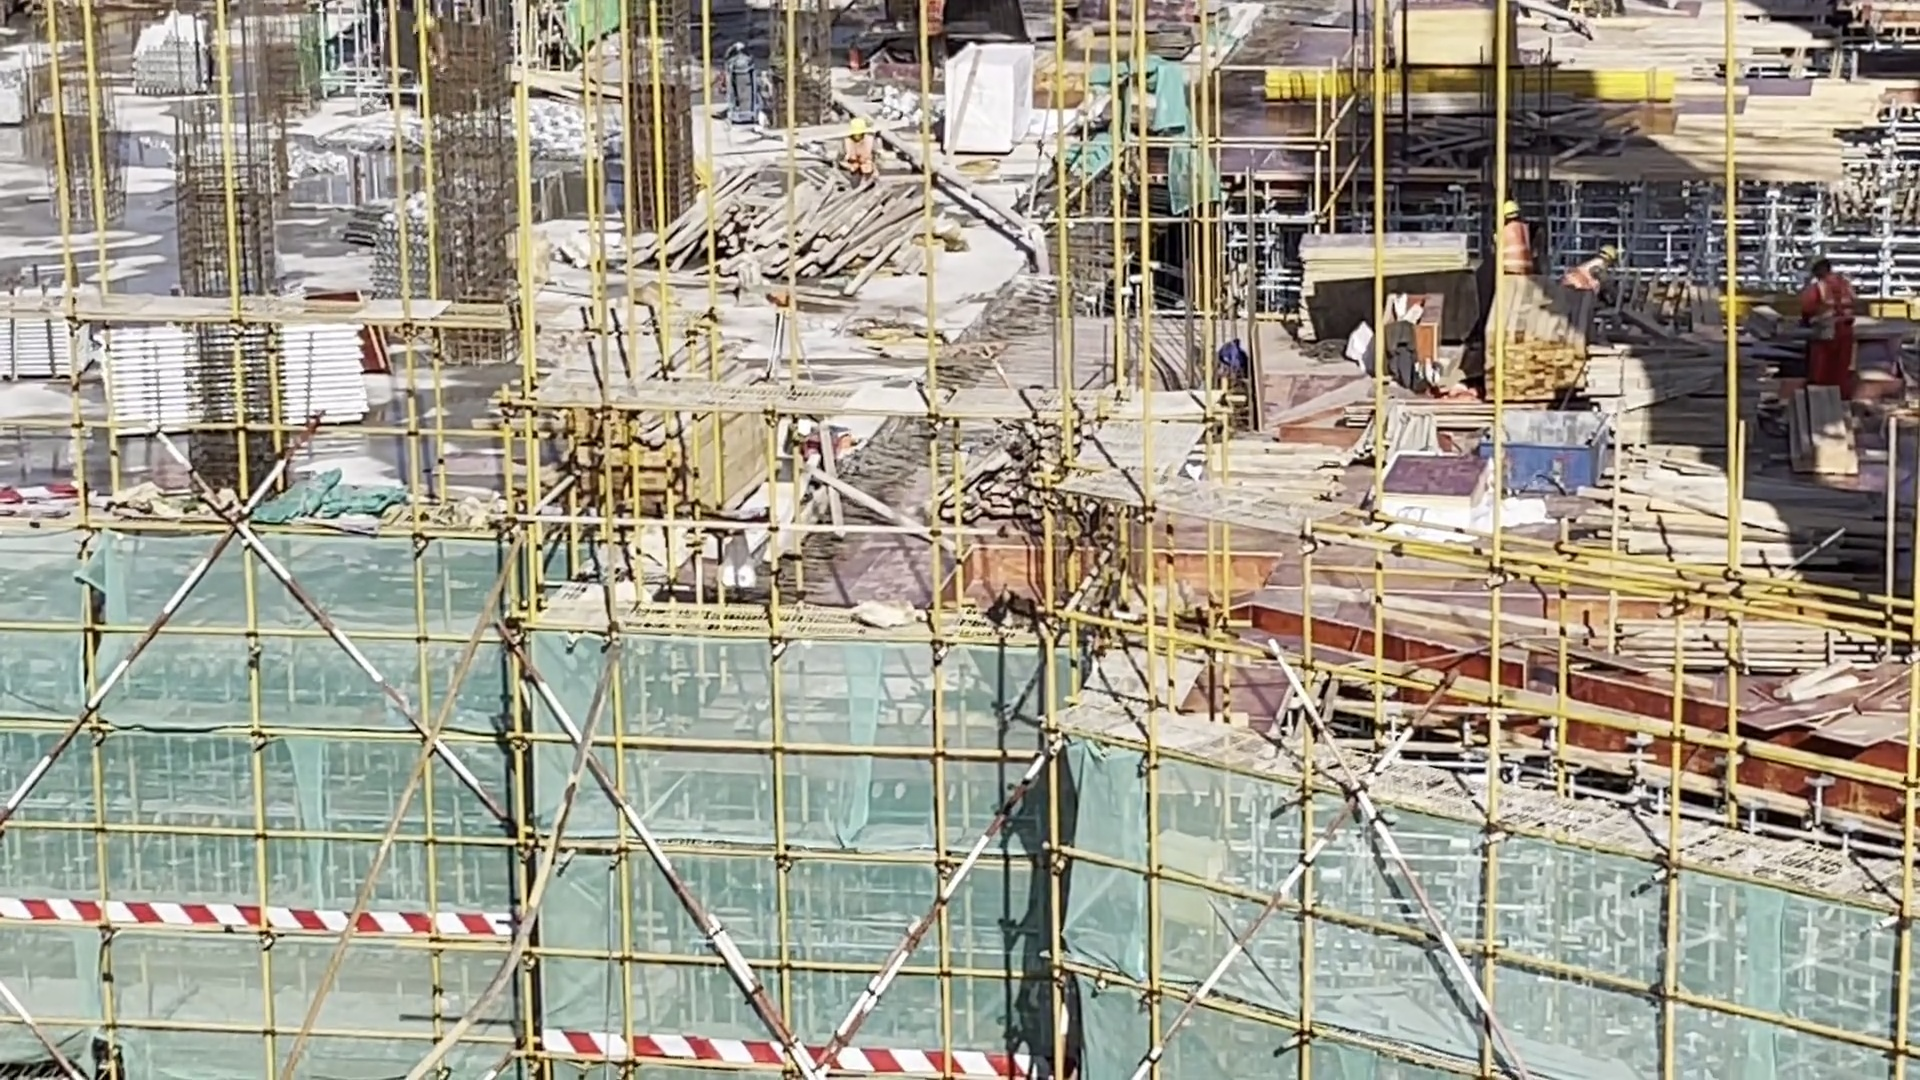board: (1732, 642, 1920, 760)
helmet: (789, 420, 813, 439), (1502, 198, 1522, 218), (849, 124, 871, 140), (1597, 246, 1618, 263)
hopper: (1474, 396, 1641, 529)
person: (1792, 256, 1859, 388), (778, 410, 854, 478), (1492, 197, 1540, 266), (1558, 240, 1618, 295), (841, 117, 882, 173)
scaffold: (70, 307, 356, 431), (1, 283, 91, 378)
vest: (1807, 280, 1851, 342), (1502, 226, 1533, 265), (1568, 257, 1599, 292), (846, 138, 878, 170)
wood: (537, 355, 771, 529), (1593, 452, 1847, 596), (654, 182, 936, 304), (1607, 613, 1881, 685), (1478, 302, 1610, 409)
